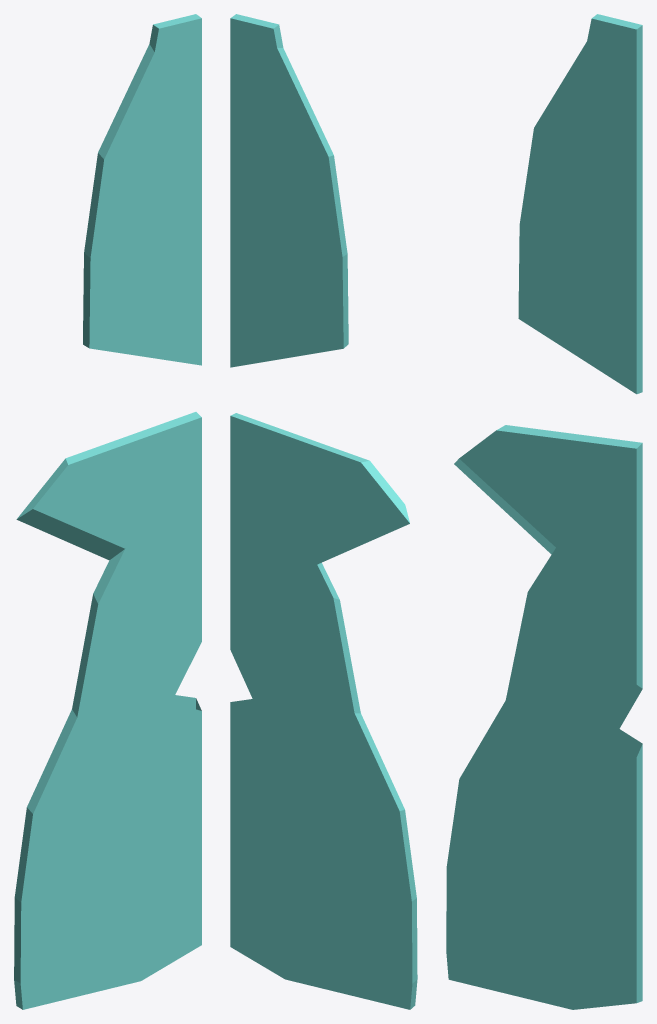
Rendered from Glass Destroyed C.fbx.
3 renders of one model, left to right at view 1: azimuth 30°, elevation 25°; view 2: azimuth 150°, elevation 25°; view 3: azimuth 330°, elevation 25°, orthographic. The views are drawn at different scales.
Parts seen in each view (by area): view 1: Glass Destroyed C; view 2: Glass Destroyed C; view 3: Glass Destroyed C.
Part boxes in pixels (<box>): Glass Destroyed C: <box>14,14,201,1009</box>; Glass Destroyed C: <box>230,14,417,1009</box>; Glass Destroyed C: <box>446,14,642,1009</box>.
Bounding box in the file's own units: 0.1809 × 0.9 × 0.01.
